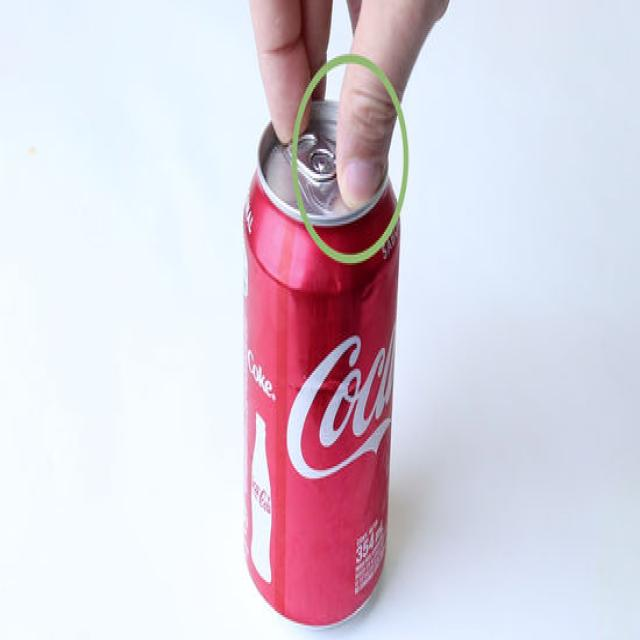can: (247, 20, 412, 619)
